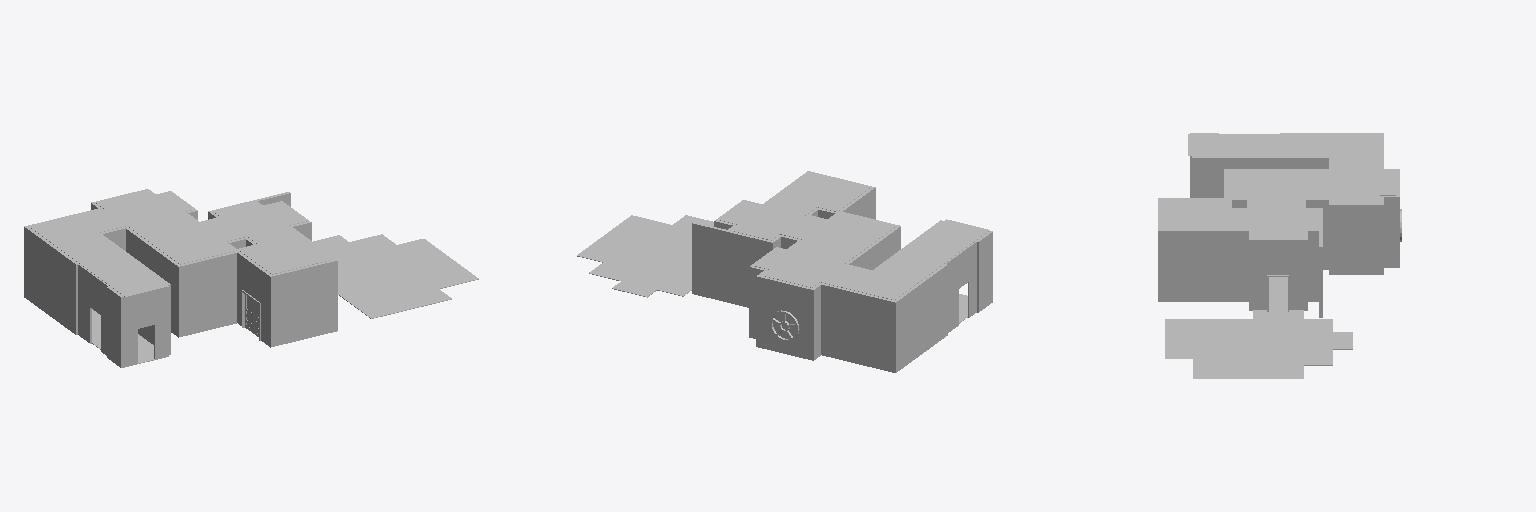
File: top_hallway.obj
3 renders of one model, left to right at view 1: azimuth 30°, elevation 25°; view 2: azimuth 150°, elevation 25°; view 3: azimuth 270°, elevation 25°, orthographic.
Visible parts, largest first — view 1: polySurface2540; view 2: polySurface2540; view 3: polySurface2540.
Boxes of the visible parts, x1=… form: polySurface2540: x1=24, y1=189, x2=478, y2=367; polySurface2540: x1=577, y1=171, x2=992, y2=372; polySurface2540: x1=1158, y1=133, x2=1401, y2=378.
Size of the model in its own units: 26.6 by 5.03 by 15.67.